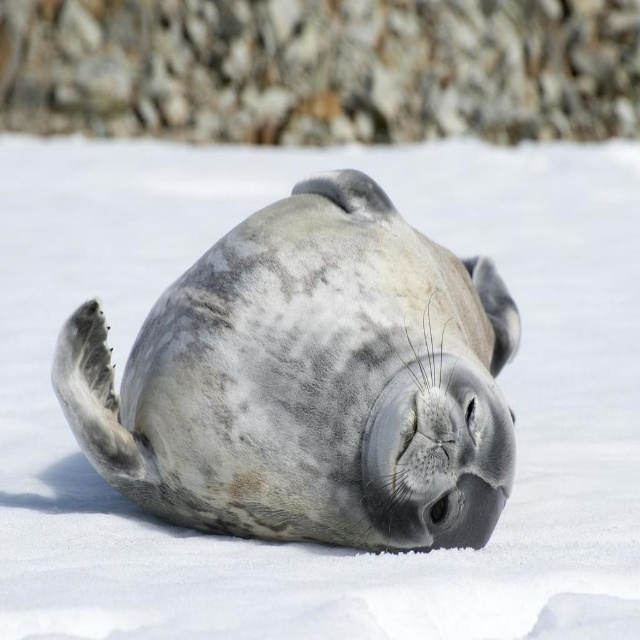Harbor seal: (45, 166, 523, 548)
